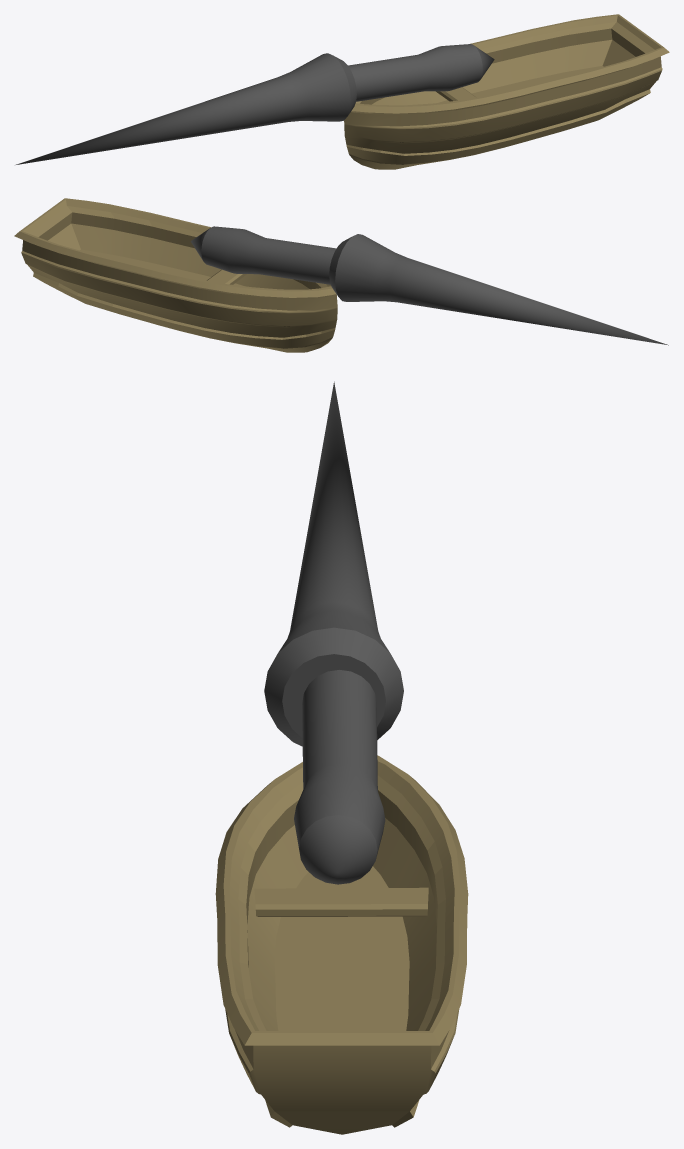
Rendered from BarcoRafa.fbx.
3 views of the same model, one above another, from view 1: azimuth 30°, elevation 25°; view 2: azimuth 150°, elevation 25°; view 3: azimuth 270°, elevation 25° (orthographic). The views are drawn at different scales.
Parts seen in each view (by area): view 1: pCube4; view 2: pCube4; view 3: pCube4.
Part boxes in pixels (x1,y1,x2,y2): pCube4: (16, 14, 669, 169); pCube4: (14, 198, 668, 352); pCube4: (215, 381, 468, 1134).
Size of the model in its own units: 7.35 by 1.47 by 1.28.
